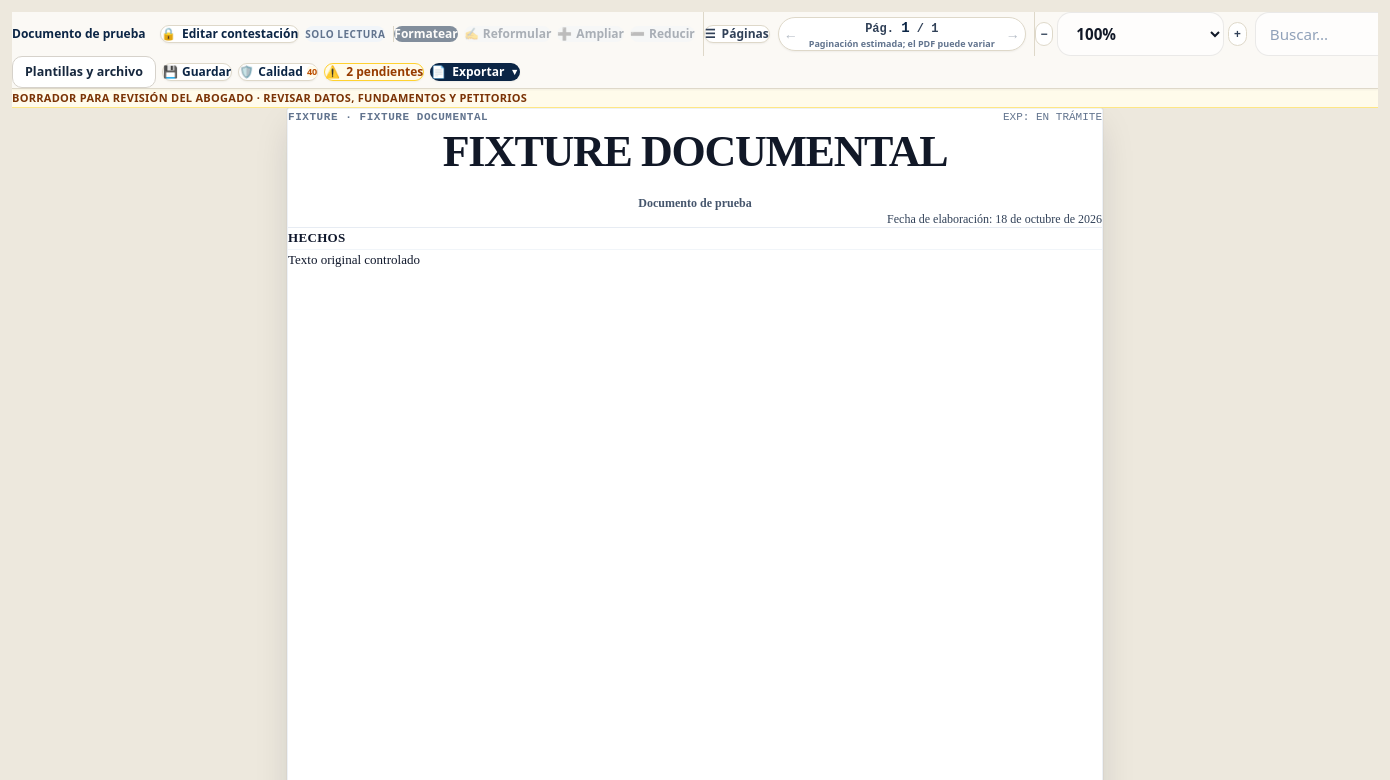
Test: renaming participates in undo and redo without changing case identity
The width and height of the screenshot is (1390, 780).
Click the button "🔒 Editar contestación" at (230, 34), box [160,25,299,43]
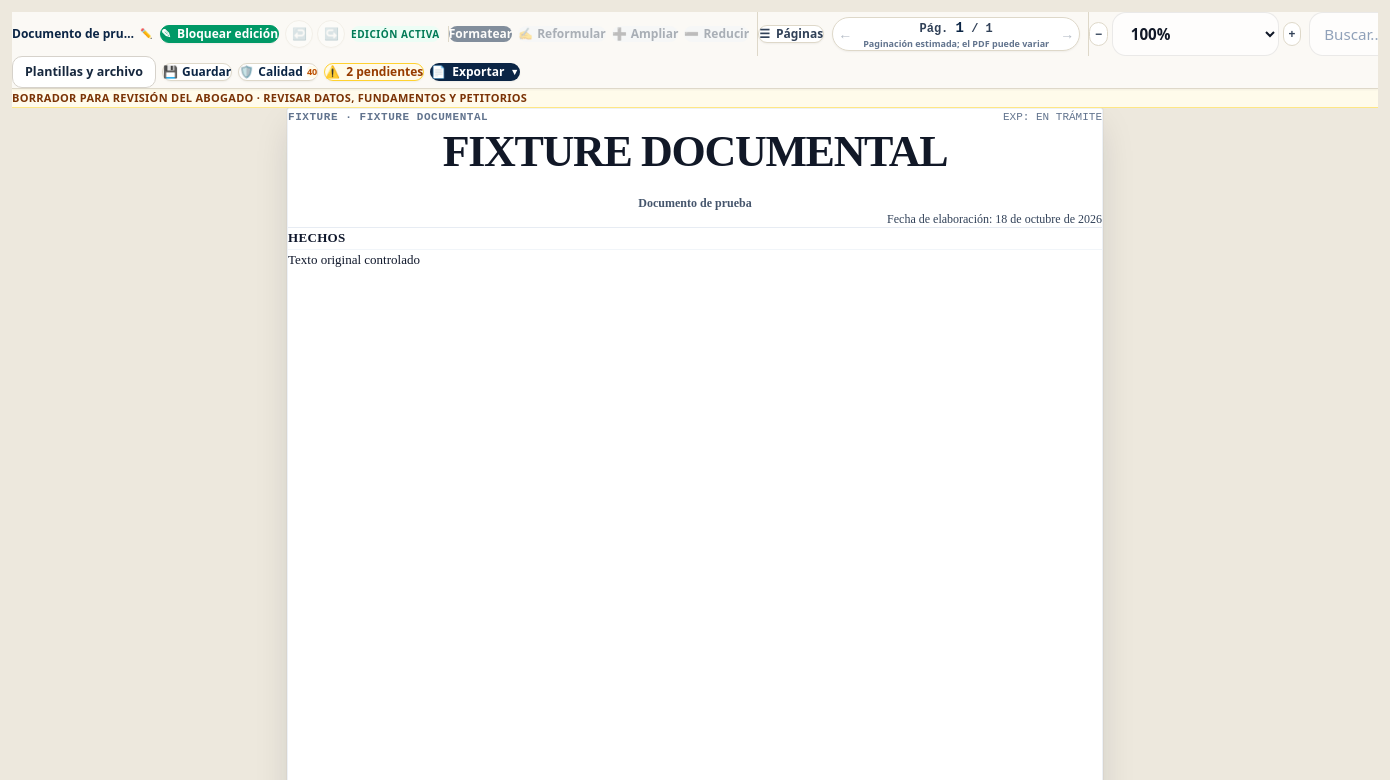
Click the button titled "Clic para renombrar documento" at (82, 34), box [12,26,152,42]
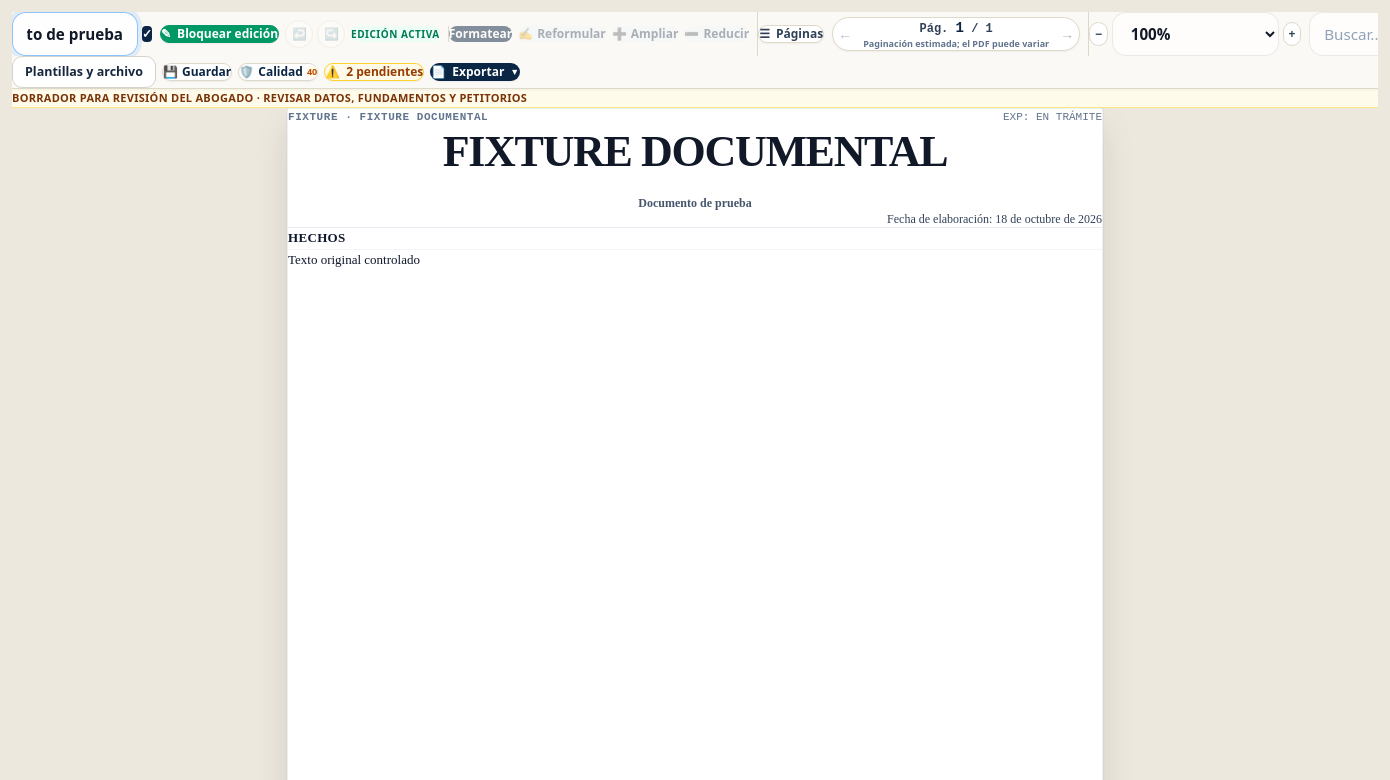
Replace the text in the field showing "Documento de prueba" with "Título corregido" at (75, 34), box [12,12,138,56]
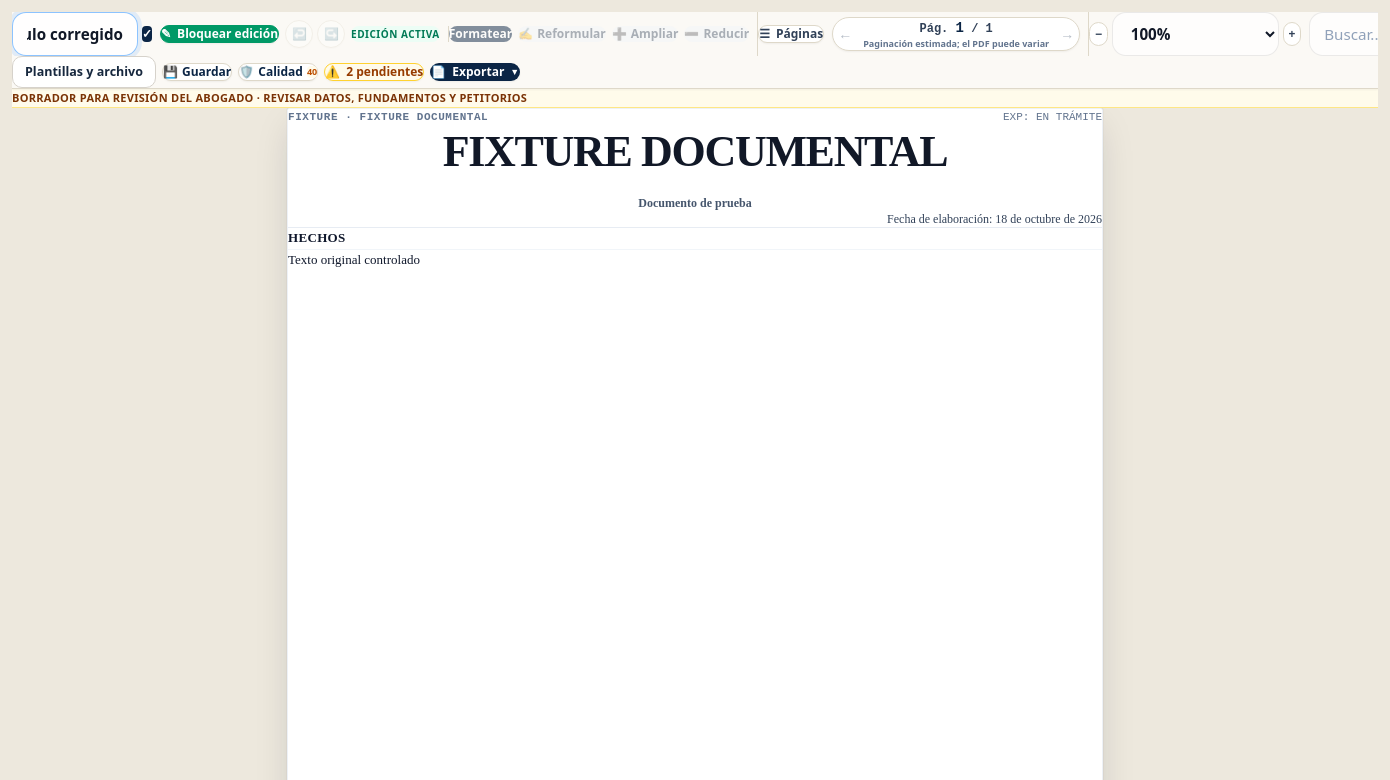
Press Enter in the field showing "Título corregido", box [12,12,138,56]
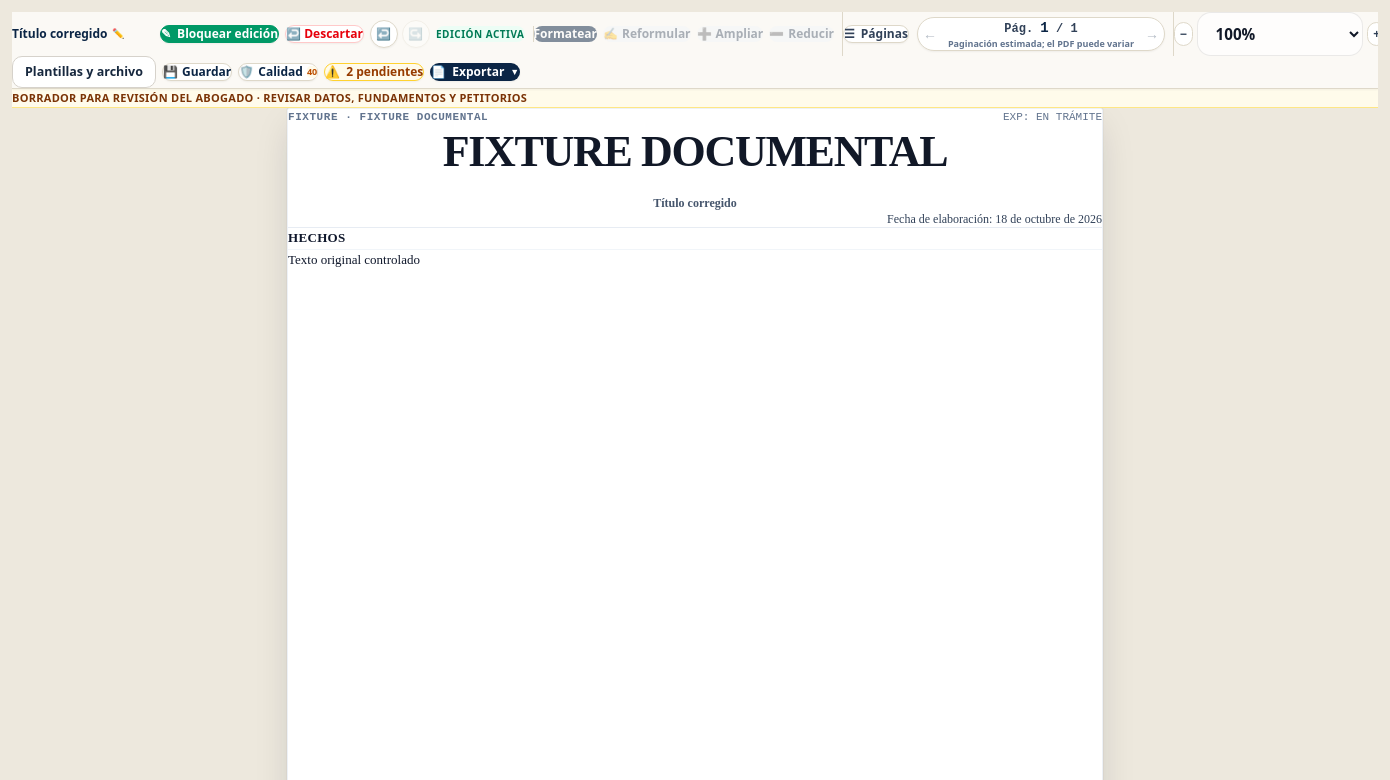
expect the button titled "Deshacer" is enabled: met
Click the button titled "Deshacer" at (384, 34), box [370,20,398,48]
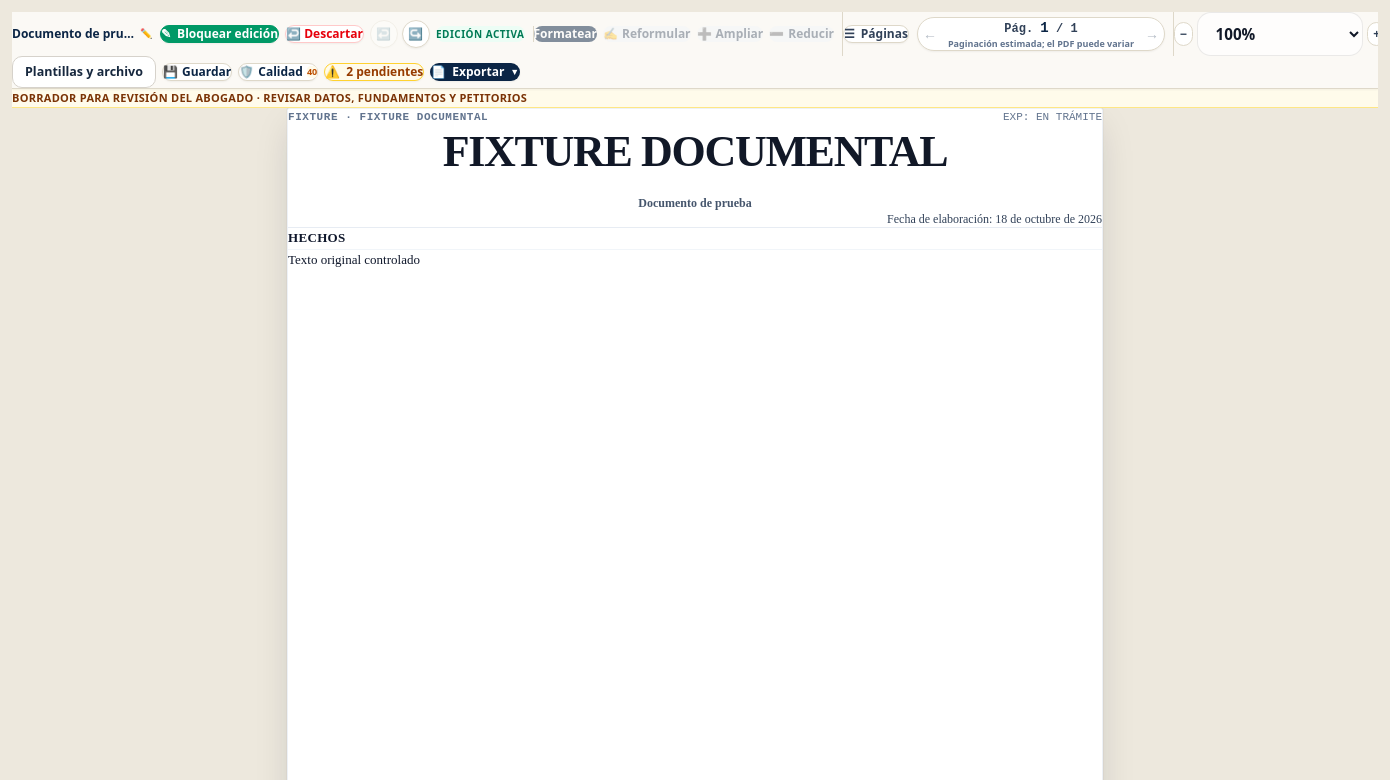
expect the button titled "Clic para renombrar documento" shows "Documento de prueba": met, box [12,26,152,42]
Click the button titled "Rehacer" at (416, 34), box [402,20,430,48]
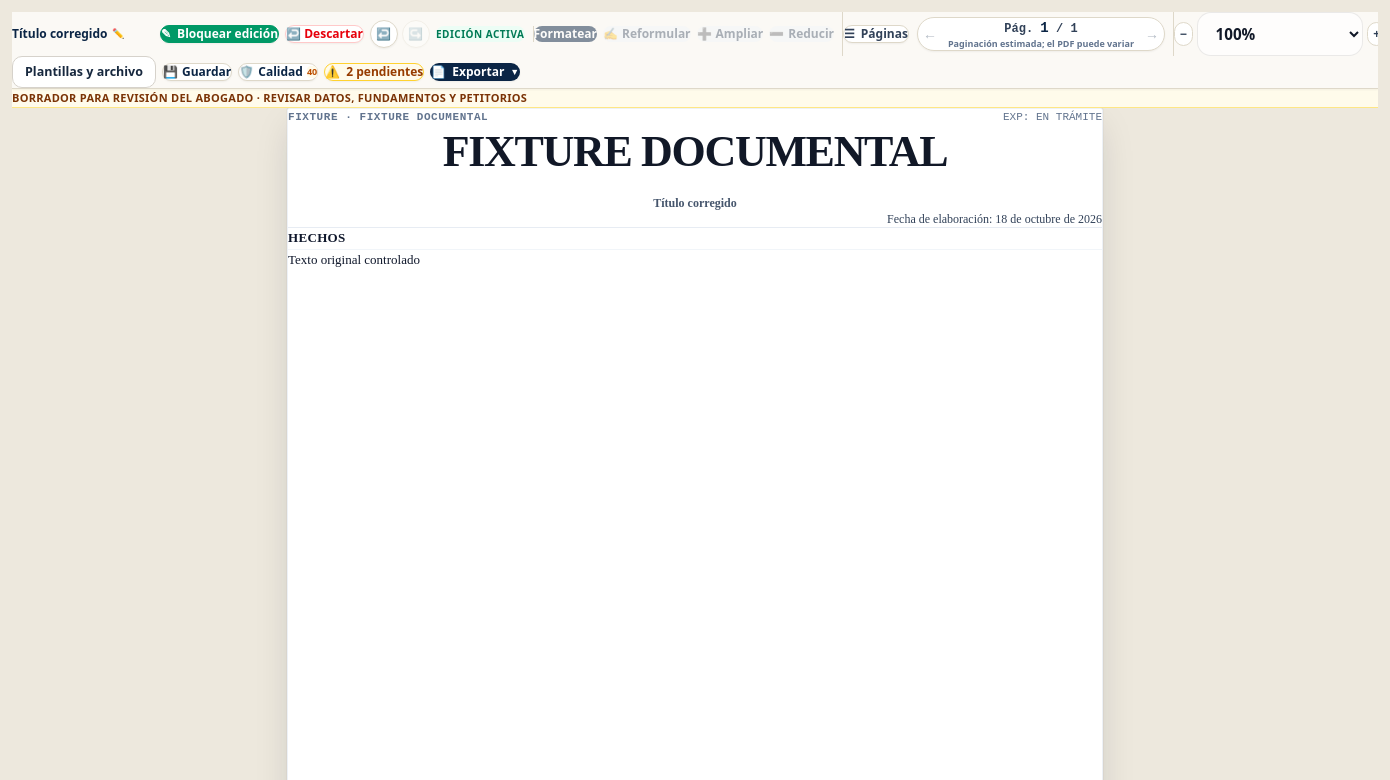
expect the button titled "Clic para renombrar documento" shows "Título corregido": met, box [12,26,124,42]
